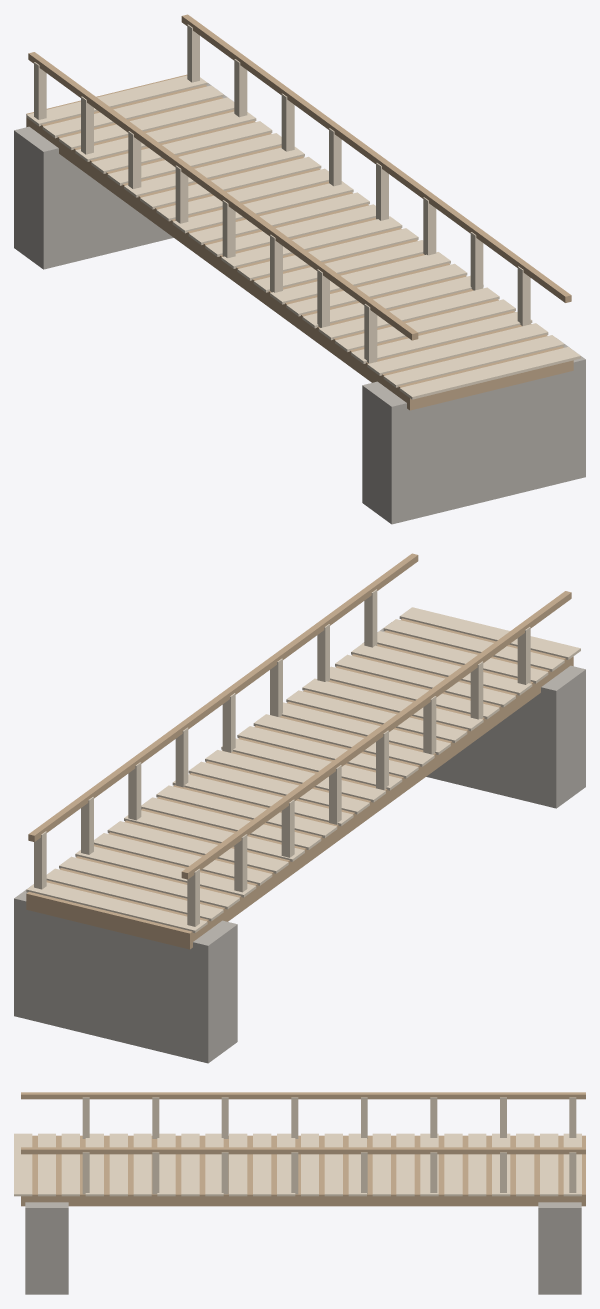
3 views of the same model, one above another, from view 1: azimuth 30°, elevation 25°; view 2: azimuth 150°, elevation 25°; view 3: azimuth 270°, elevation 25° (orthographic). The views are drawn at different scales.
Parts seen in each view (by area): view 1: WB_bridge_0; view 2: WB_bridge_0; view 3: WB_bridge_0.
Part boxes in pixels (left/top/right/bottom): WB_bridge_0: left=14, top=14, right=585, bottom=524; WB_bridge_0: left=14, top=553, right=585, bottom=1063; WB_bridge_0: left=14, top=1092, right=585, bottom=1294.
Size of the model in its own units: 3.8 by 3.52 by 13.16.
